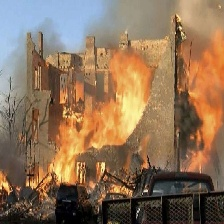fire: (29, 45, 156, 198), (184, 35, 221, 172), (1, 164, 19, 192)
smoke: (1, 22, 60, 155), (91, 3, 224, 49)
